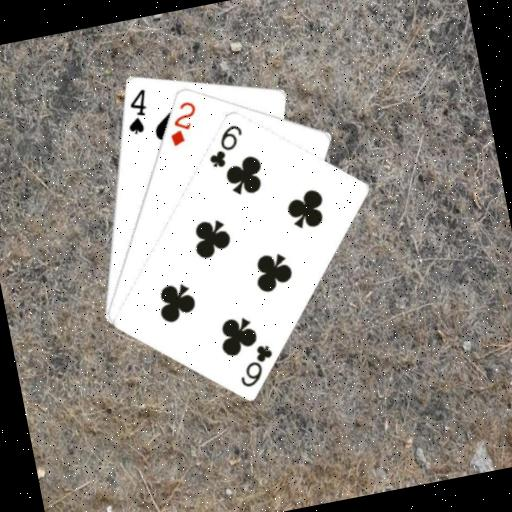2D: (160, 96, 203, 149)
4S: (118, 85, 154, 137)
6C: (200, 120, 250, 171), (231, 339, 280, 390)
